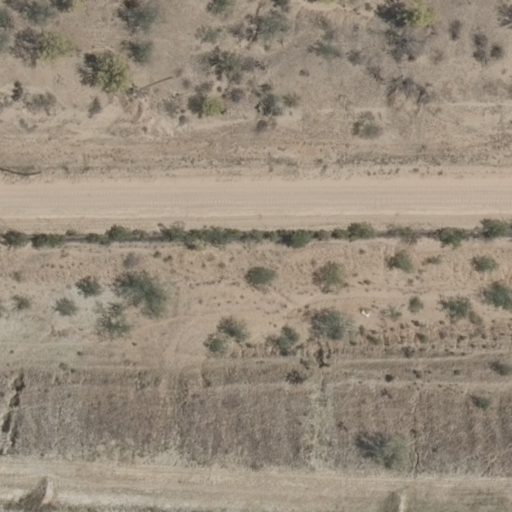DT: (12, 166, 48, 181)
